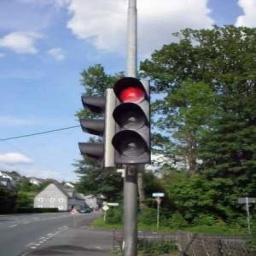traffic light: (111, 76, 151, 164), (78, 95, 105, 159)
